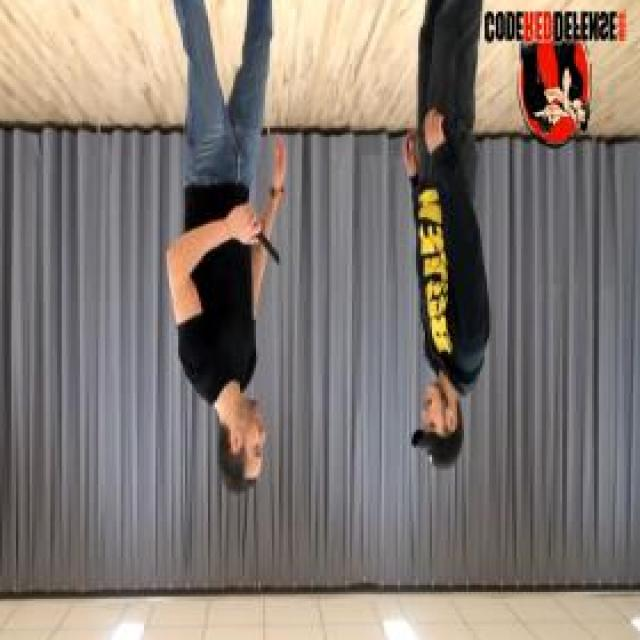knife: (240, 202, 280, 272)
